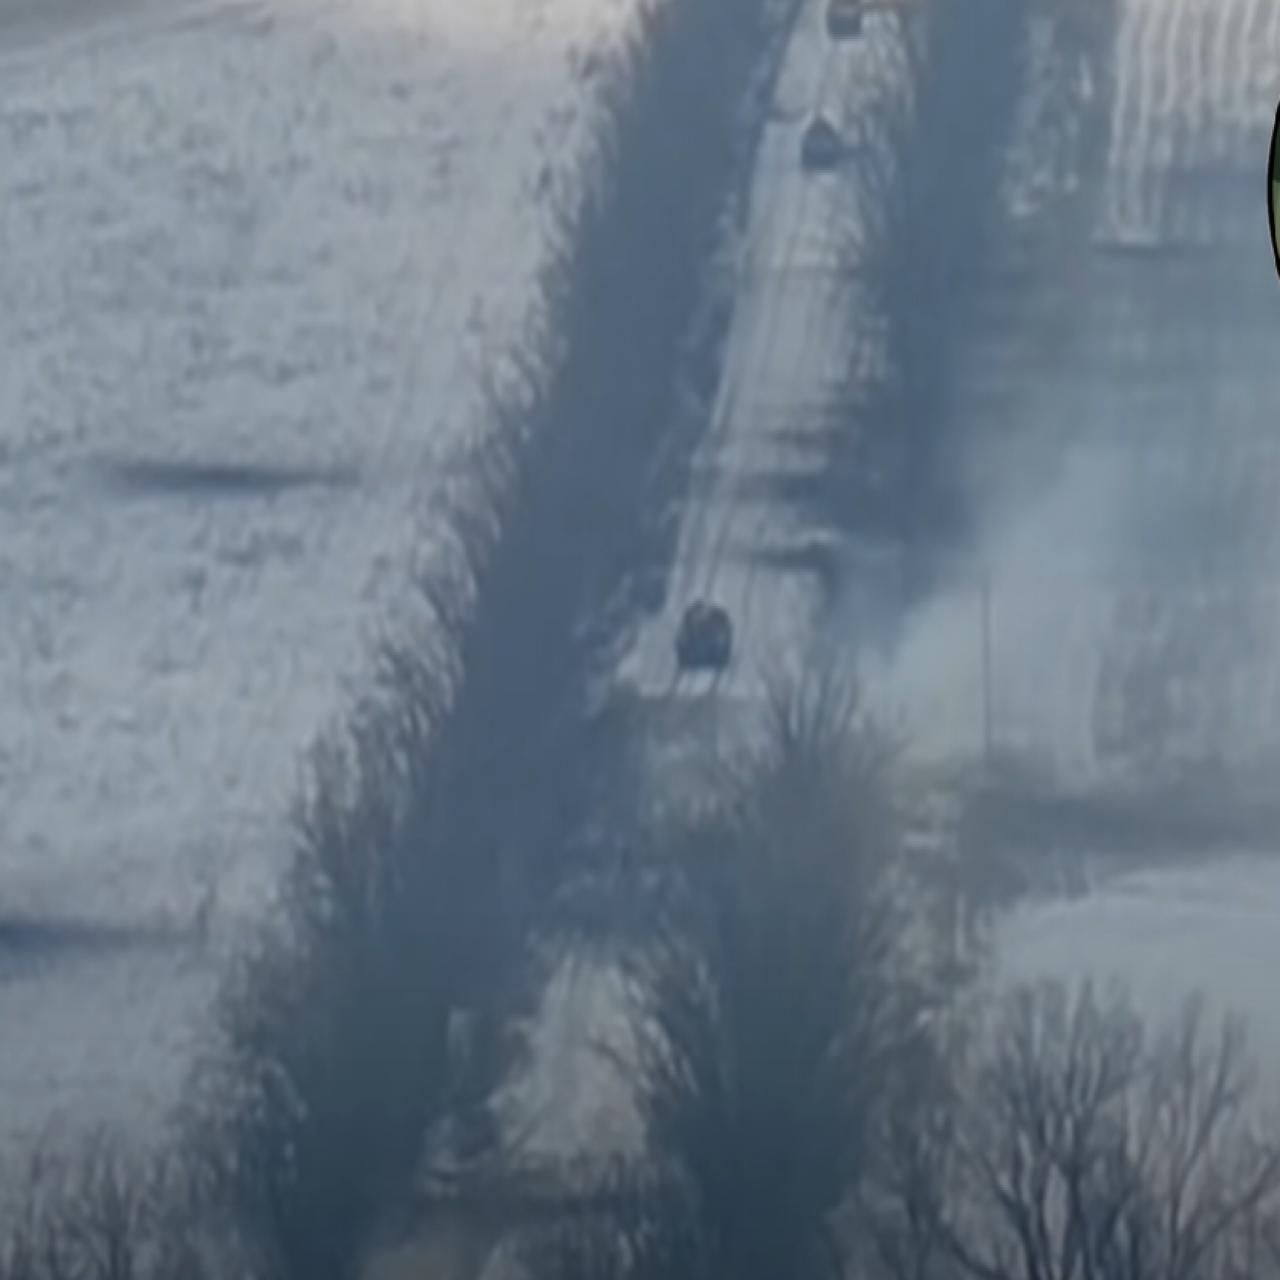MIL_Veh: (660, 591, 735, 669), (798, 109, 849, 169)
